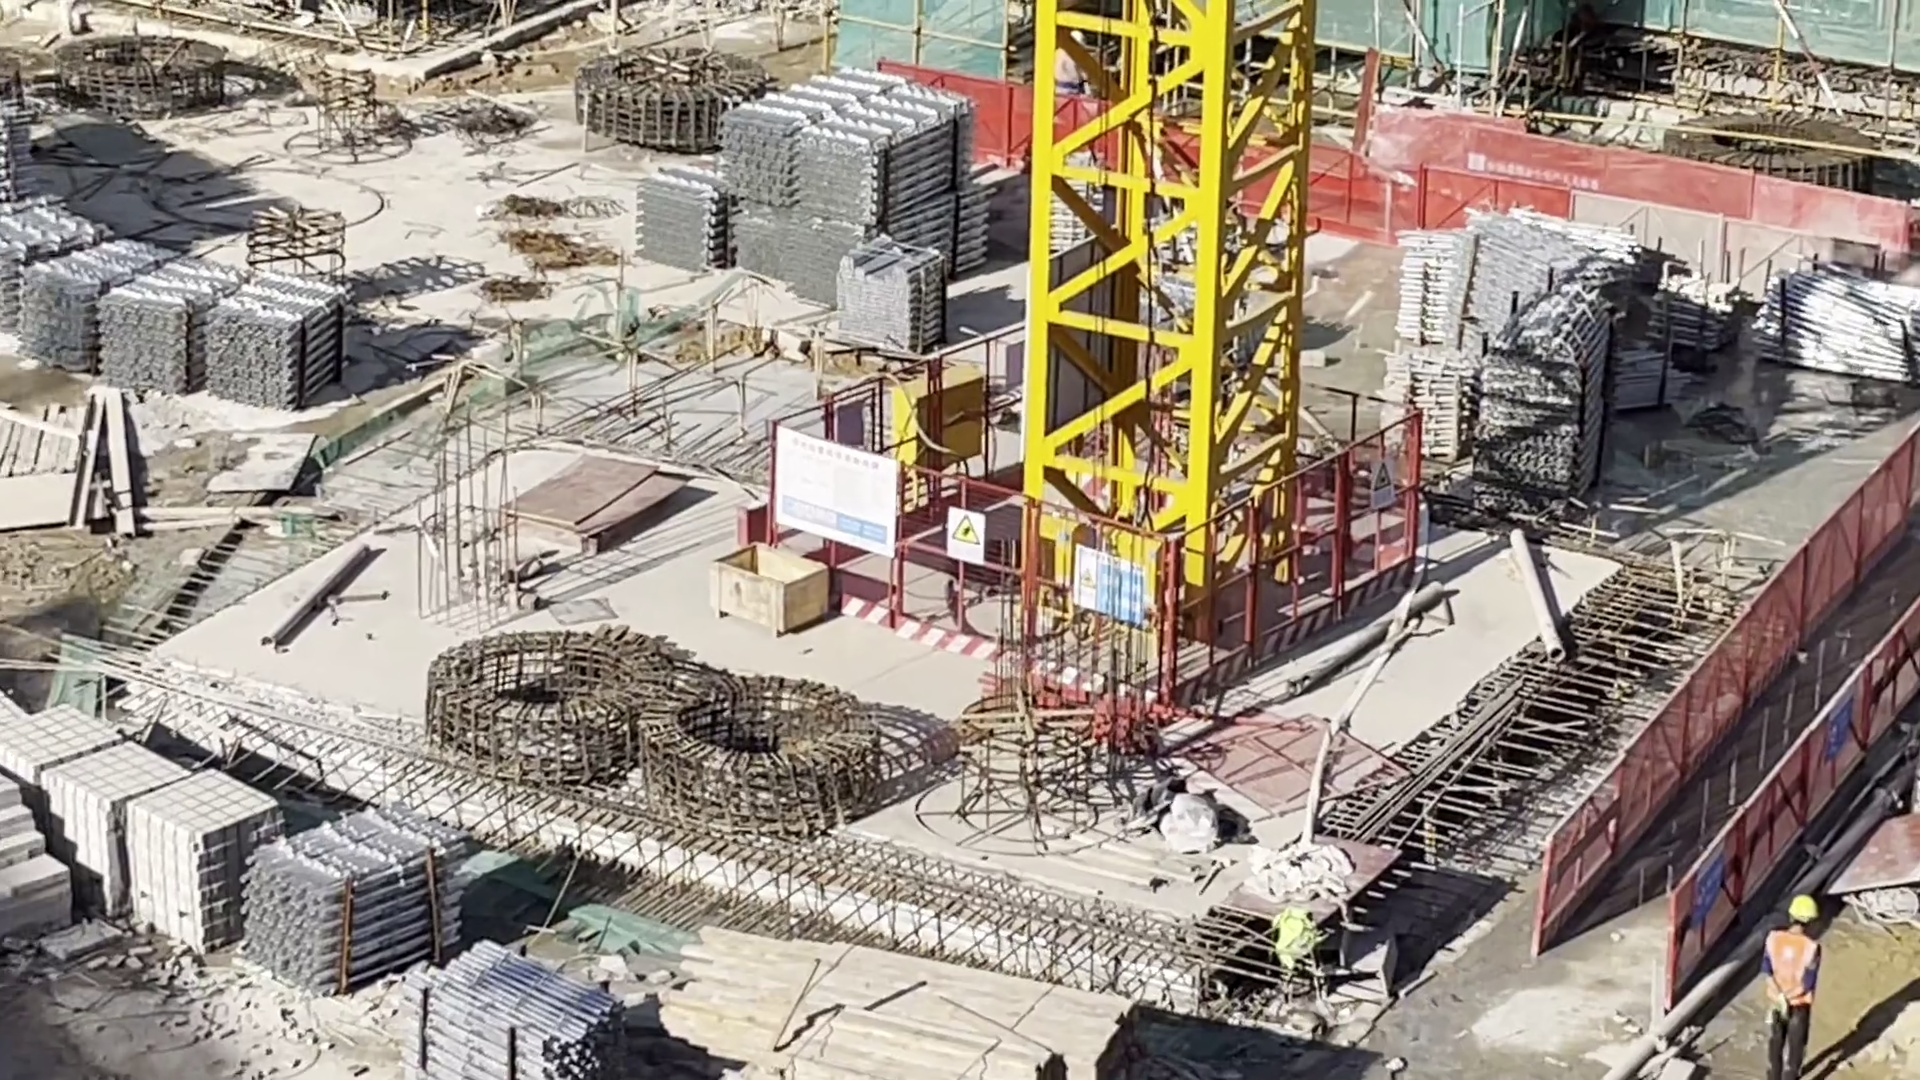board: (525, 464, 675, 547)
brick: (1, 729, 292, 930)
ebox: (890, 370, 977, 473)
fence: (1556, 412, 1920, 982), (1315, 127, 1920, 263)
helmet: (1790, 895, 1817, 923)
person: (1761, 895, 1818, 1080)
scaffold: (727, 72, 986, 288), (248, 810, 469, 979), (412, 947, 616, 1080), (1482, 293, 1598, 489), (1482, 214, 1648, 346), (98, 258, 242, 391), (19, 242, 165, 373), (1765, 268, 1920, 375), (209, 285, 346, 403), (835, 239, 944, 346), (1381, 345, 1480, 459), (638, 153, 731, 265), (1646, 268, 1739, 350), (1398, 229, 1461, 339)
slogan: (1077, 549, 1144, 623), (1694, 851, 1725, 920), (948, 510, 982, 566), (1828, 695, 1851, 760), (1370, 462, 1396, 508)
vest: (1770, 927, 1817, 1000)
wood: (670, 939, 1138, 1080)
